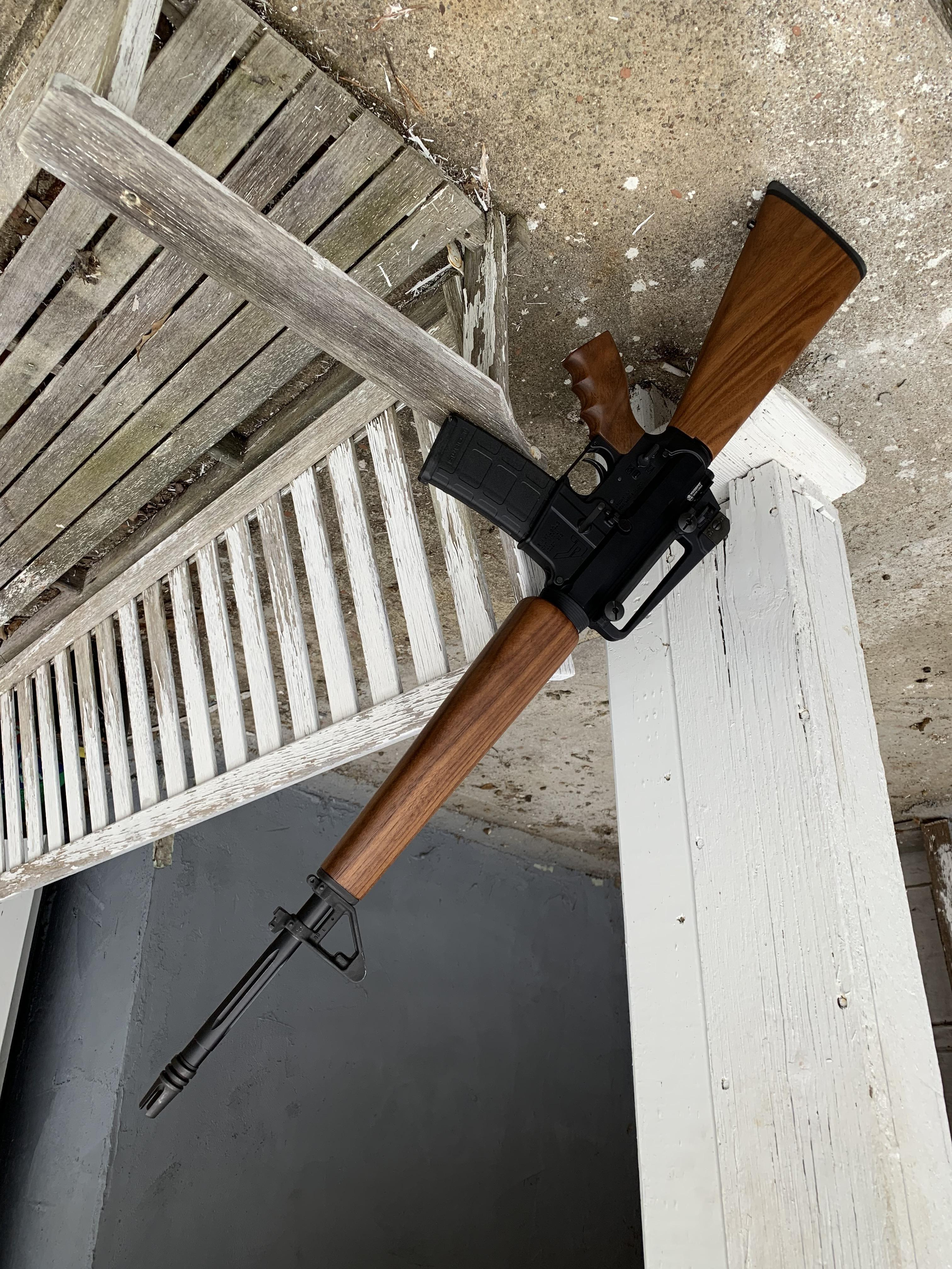larga: (134, 176, 870, 1123)
